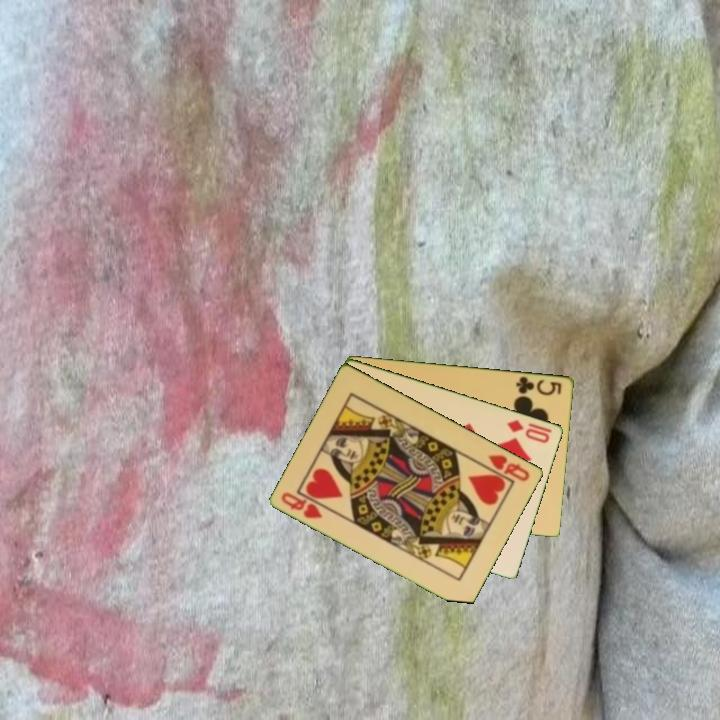10d: (504, 416, 553, 446)
5c: (513, 373, 565, 398)
Qh: (484, 451, 533, 484), (278, 488, 326, 521)
